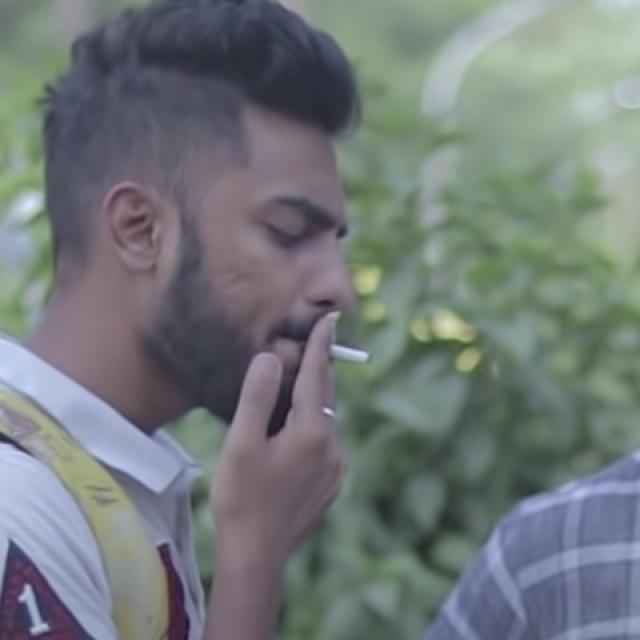smoke: (318, 336, 408, 392)
